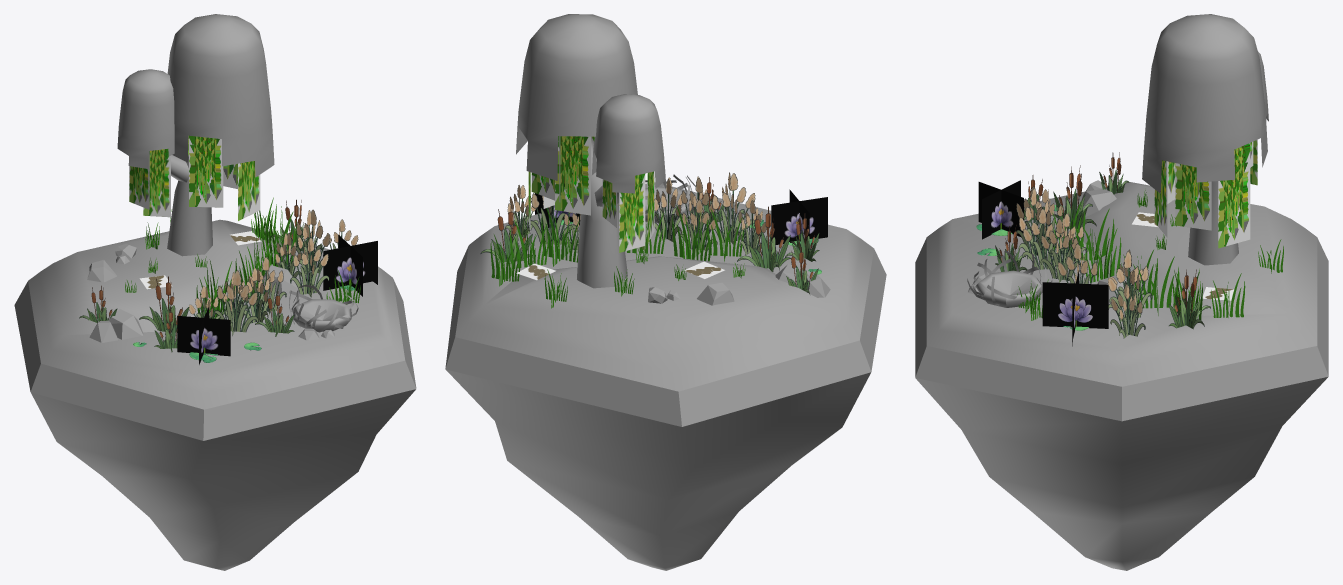
Rendered from Advanced_Habitat.fbx.
3 renders of one model, left to right at view 1: azimuth 30°, elevation 25°; view 2: azimuth 150°, elevation 25°; view 3: azimuth 270°, elevation 25°, orthographic. The views are drawn at different scales.
Parts seen in each view (by area): view 1: Advanced_Habitat_mod; view 2: Advanced_Habitat_mod; view 3: Advanced_Habitat_mod.
Boxes of the visible parts, x1,y1,x2,y2 form: Advanced_Habitat_mod: (14,14,416,570); Advanced_Habitat_mod: (445,14,886,570); Advanced_Habitat_mod: (915,14,1328,570).
Size of the model in its own units: 11.53 by 15.12 by 9.99.
